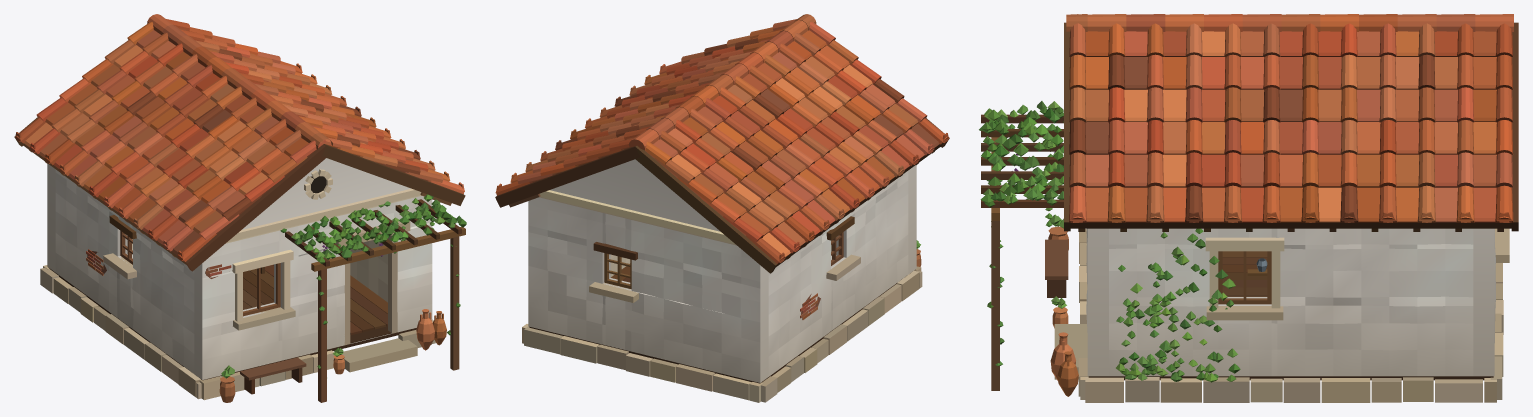
File: pleb_4_1.glb
The picture shows the model from 3 angles, left to right: view 1: azimuth 30°, elevation 25°; view 2: azimuth 150°, elevation 25°; view 3: azimuth 270°, elevation 25°; orthographic projection. The views are drawn at different scales.
Visible parts, largest first — view 1: House, Walls, Rooms; view 2: House, Walls; view 3: House, Walls, Rooms.
Part boxes in pixels (bbox=[...]): House: bbox=[14, 14, 466, 402]; Walls: bbox=[47, 158, 432, 379]; Rooms: bbox=[132, 238, 387, 334]; House: bbox=[495, 14, 949, 402]; Walls: bbox=[528, 159, 916, 382]; House: bbox=[979, 14, 1518, 402]; Walls: bbox=[1086, 228, 1495, 376]; Rooms: bbox=[1222, 251, 1267, 296].
Bounding box in the file's own units: 4.44 × 3.53 × 5.57.
Materials: 3 (3 with a texture image).
